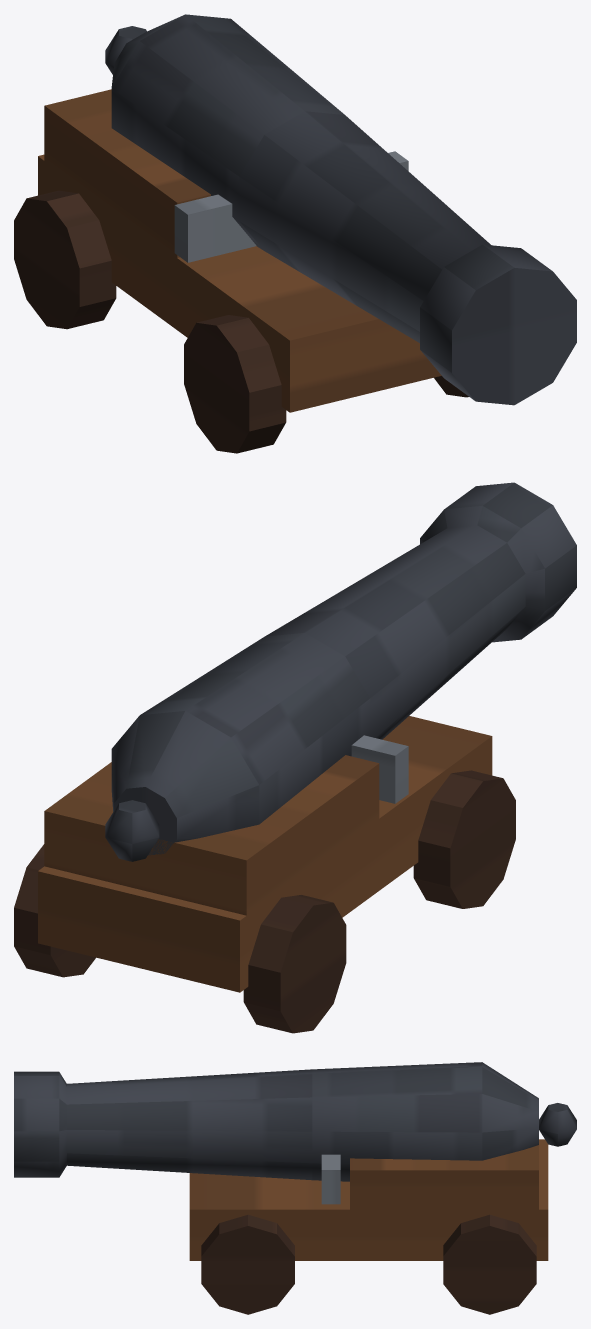
The model's file is SM_Prop_Cannon_HQ.glb.
The picture shows the model from 3 angles, top to bottom: view 1: azimuth 30°, elevation 25°; view 2: azimuth 150°, elevation 25°; view 3: azimuth 270°, elevation 25°; orthographic projection. The views are drawn at different scales.
Visible parts, largest first — view 1: SM_Prop_Cannon_HQ; view 2: SM_Prop_Cannon_HQ; view 3: SM_Prop_Cannon_HQ.
Part boxes in pixels (x1,y1,x2,y2): SM_Prop_Cannon_HQ: [14, 14, 576, 453]; SM_Prop_Cannon_HQ: [14, 482, 576, 1033]; SM_Prop_Cannon_HQ: [14, 1062, 576, 1314].
Bounding box in the file's own units: 0.58 × 0.589 × 1.49.
Materials: 1 (1 with a texture image).
